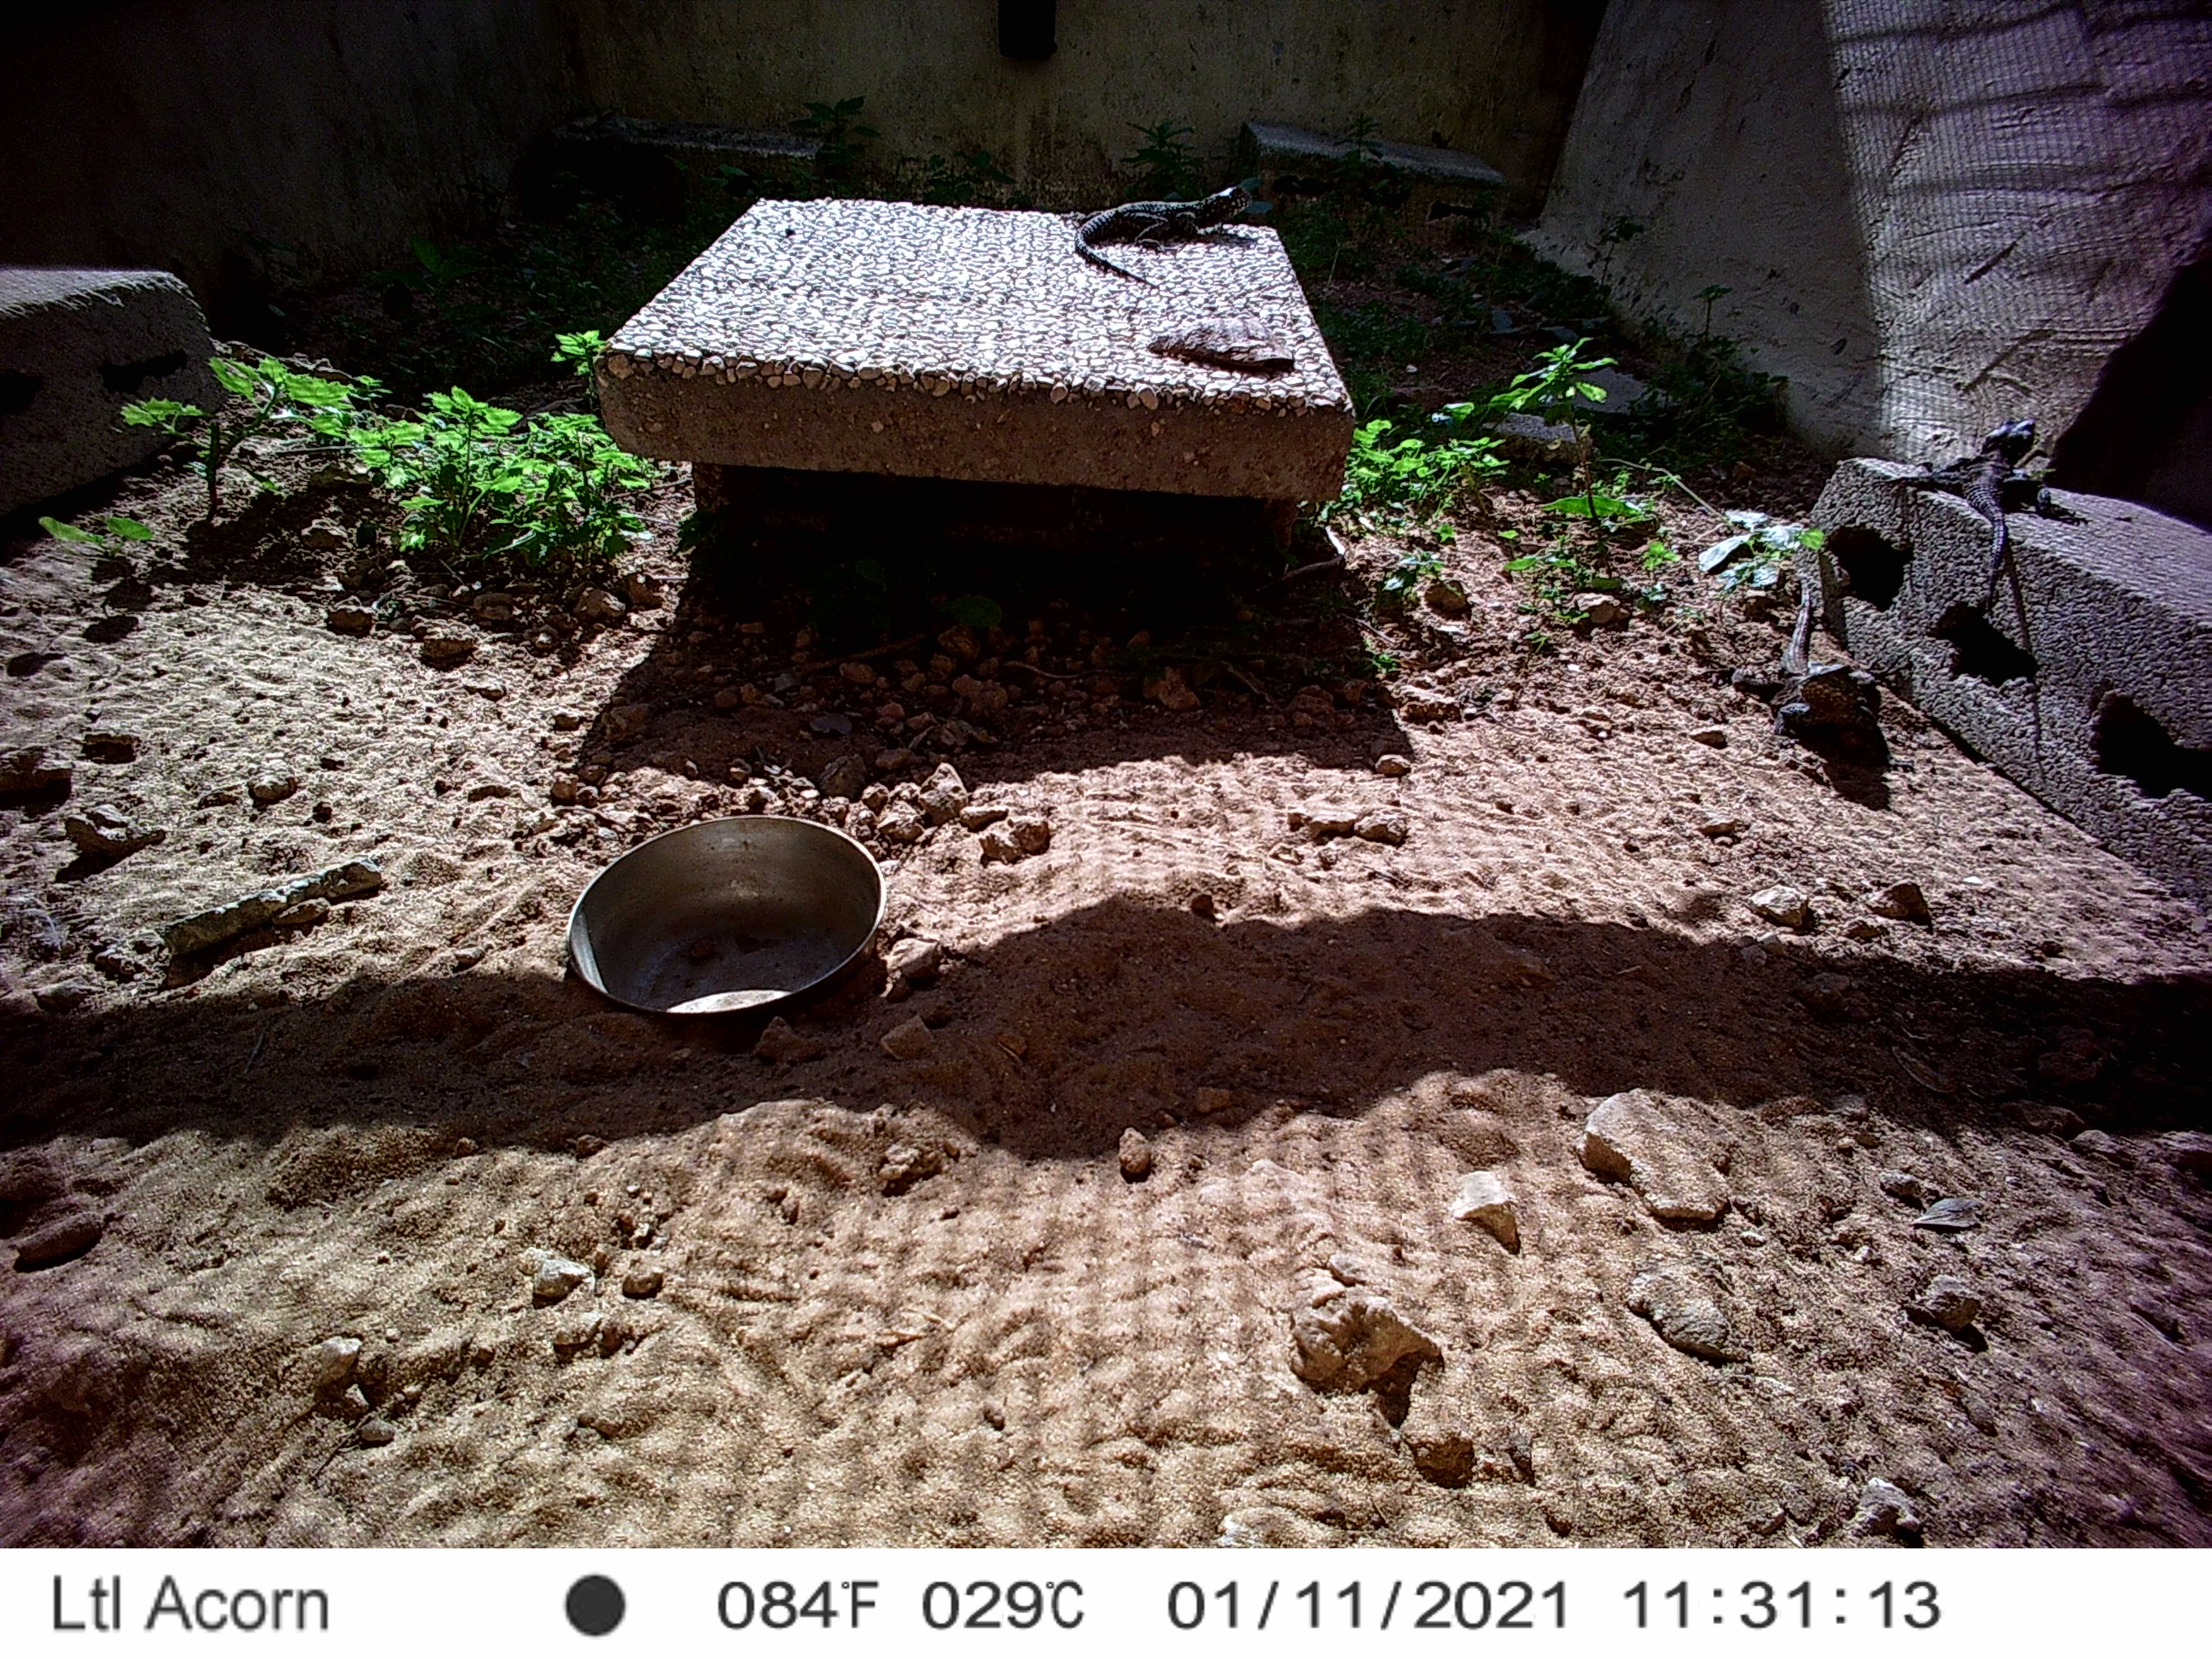lizard: (1881, 418, 2087, 622), (1730, 563, 1885, 755), (1062, 178, 1256, 288)
